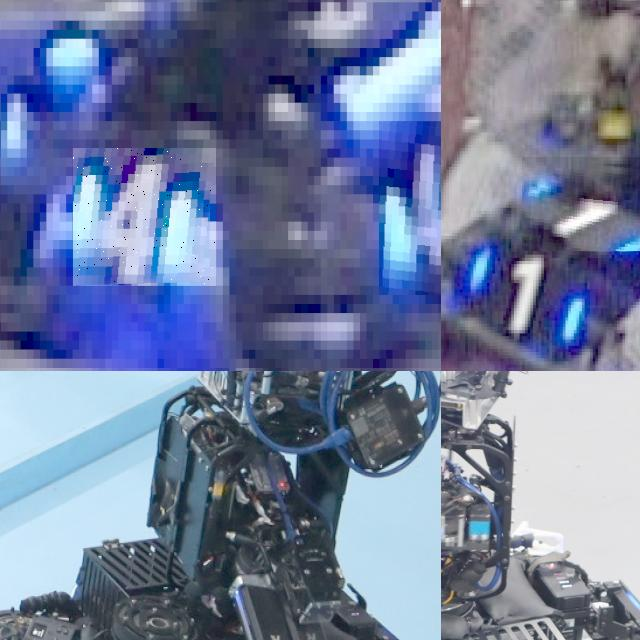B1: (463, 230, 598, 342), (522, 157, 640, 251)
B4: (73, 148, 216, 286), (379, 121, 441, 294)
